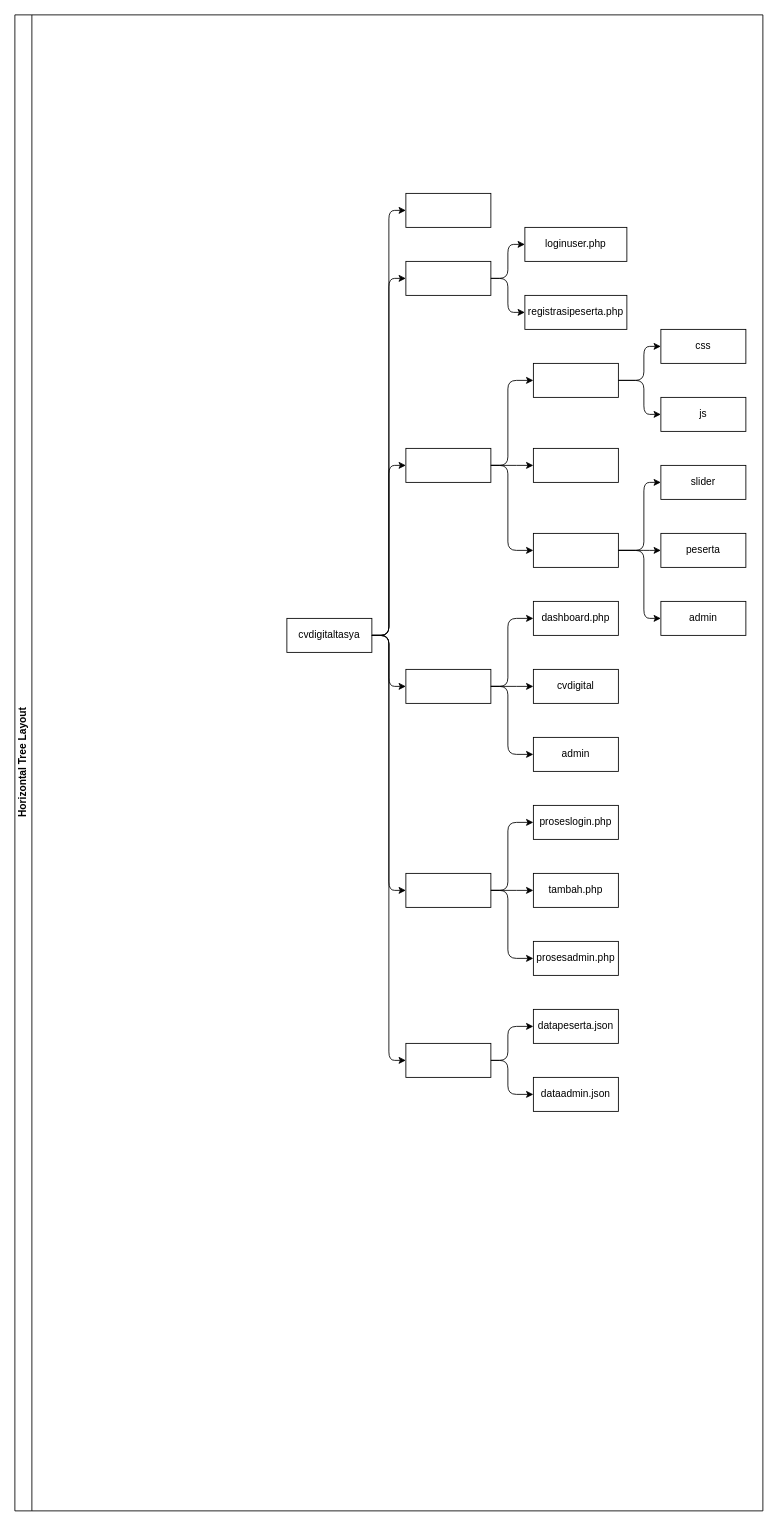
Image size: 778x1526. Some labels were removed from this diagram. Each missing label, with the centre of its shape:
assets: [448,465]
auth: [448,278]
data: [448,1060]
dist: [575,380]
image: [575,550]
index.php: [448,210]
pages: [448,686]
plugins: [575,465]
proses: [448,890]
